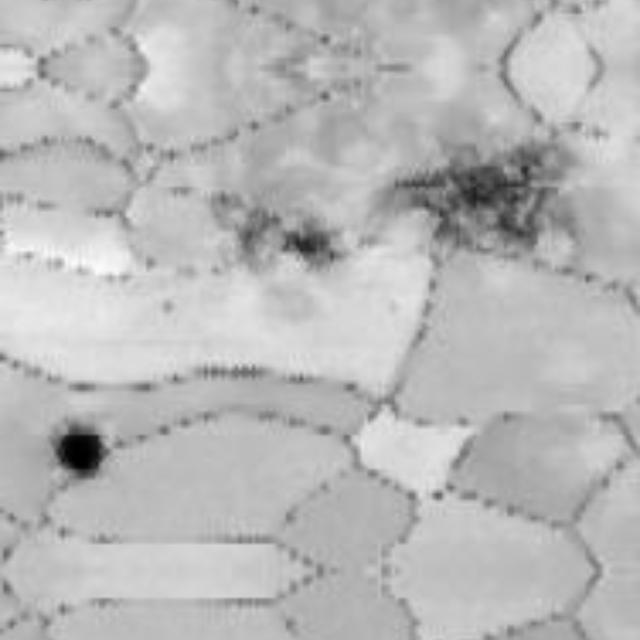good_void: (400, 139, 566, 265), (278, 219, 344, 276), (52, 425, 109, 484), (237, 211, 285, 258), (202, 189, 248, 233)
